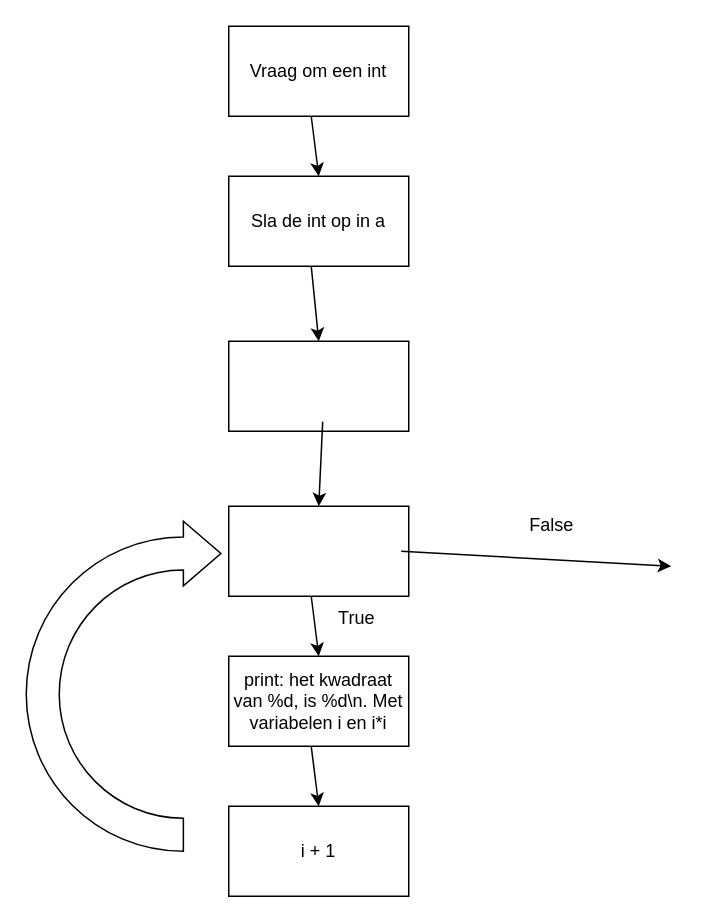
The diagram is 710 pixels wide and 923 high, and some of its shapes have lost their labels. The centre of each missing label's shape, as x and y in pixels:
"i<a" belongs at (x=318, y=550).
"zet i = 0" belongs at (x=318, y=385).
